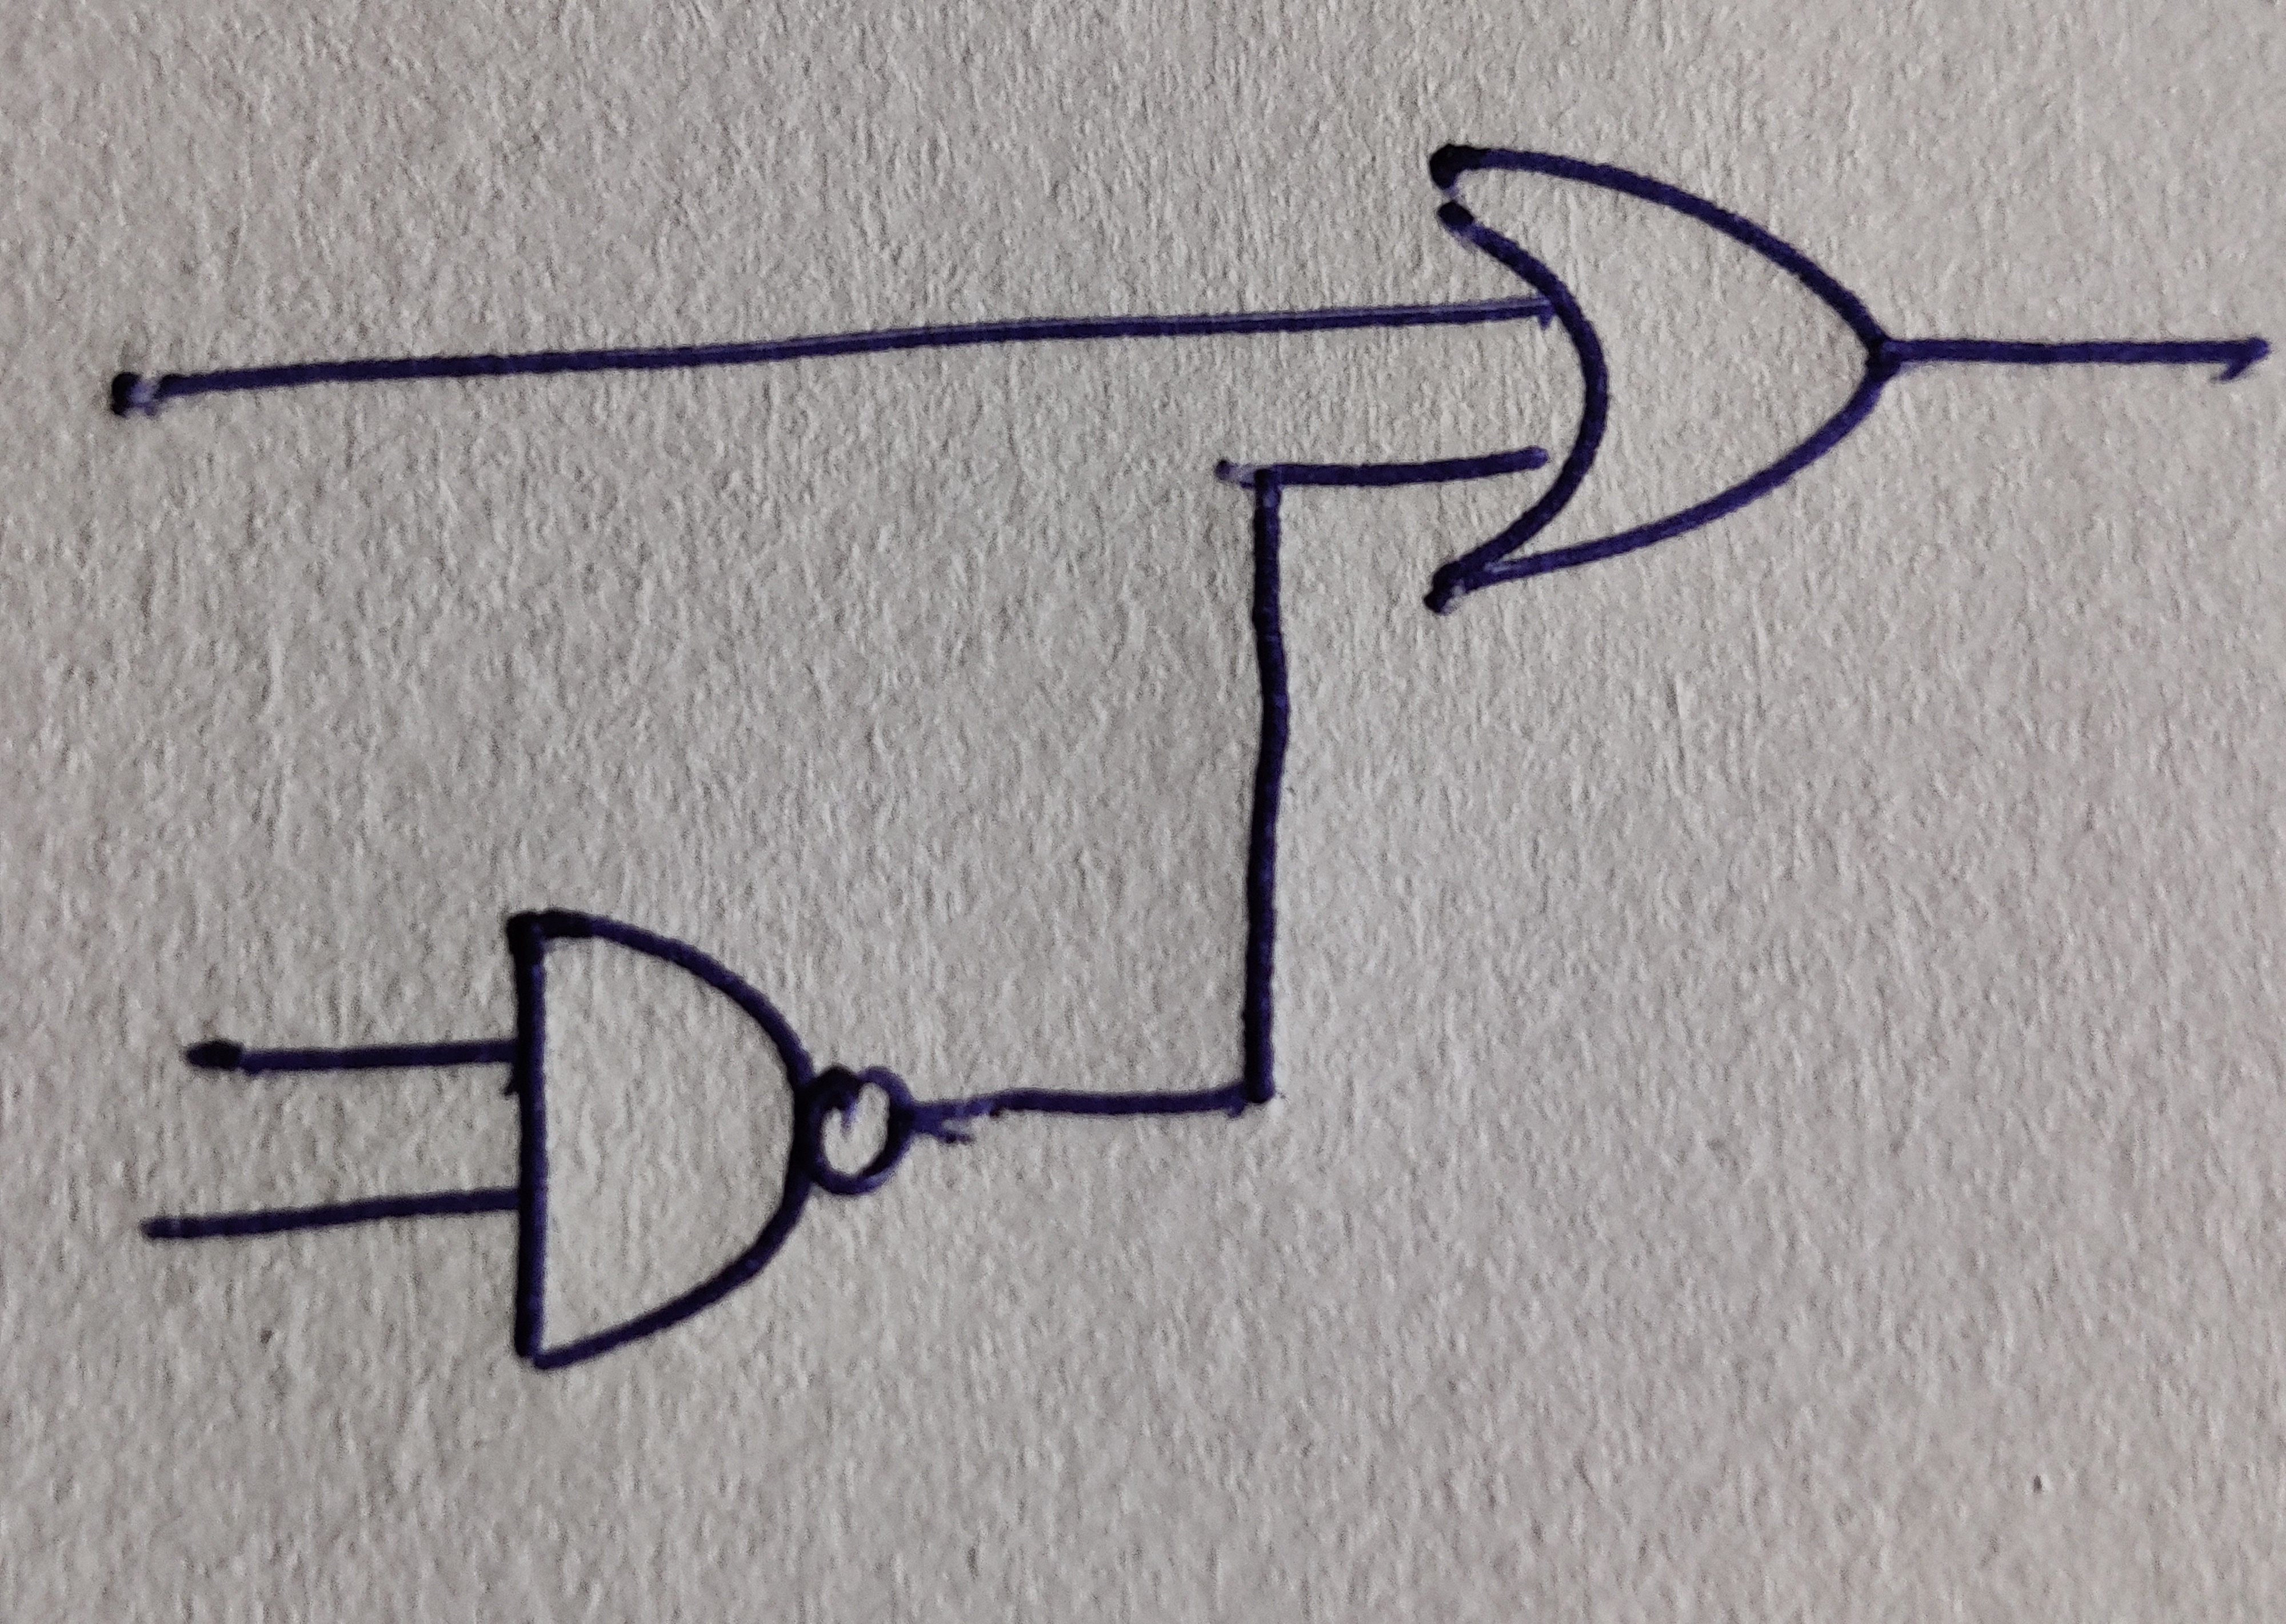and: (508, 907, 817, 1371)
not: (812, 1065, 910, 1197)
or: (1429, 146, 1898, 599)
